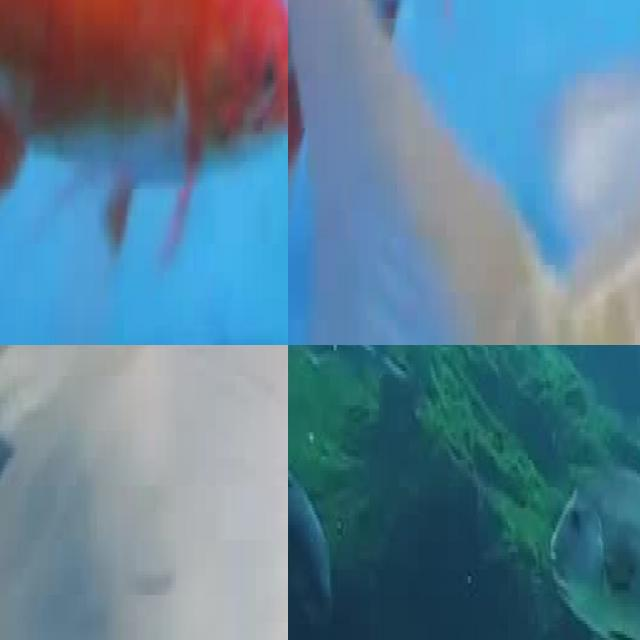fish: (0, 0, 288, 345), (288, 0, 585, 326)
